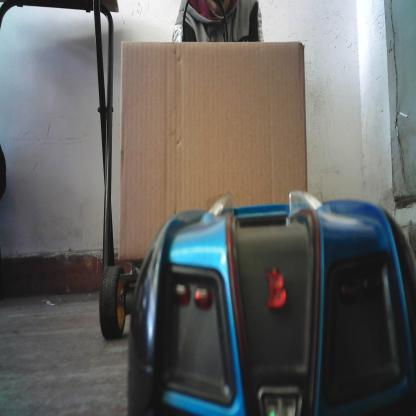LeadTruck: (99, 41, 313, 344)
